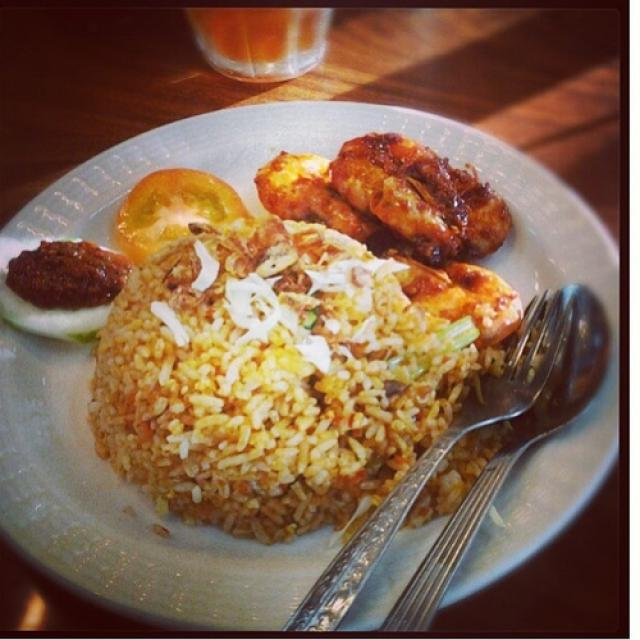米饭主食: (94, 90, 574, 604)
